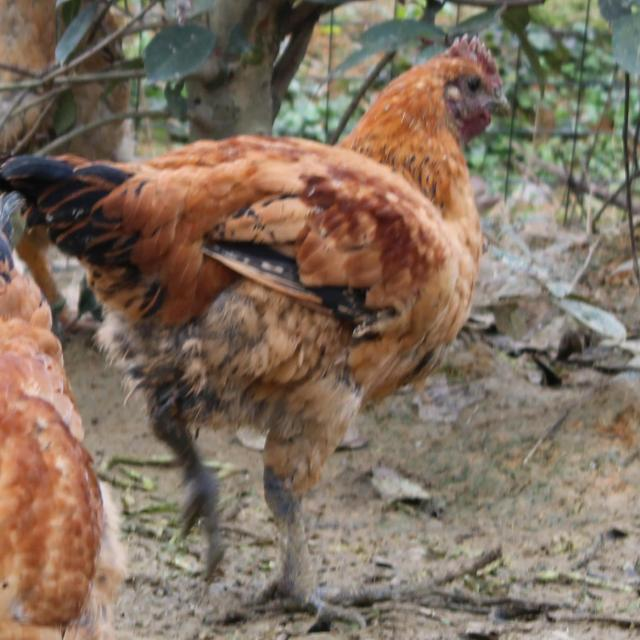hen: (0, 32, 625, 640), (319, 590, 386, 606)
